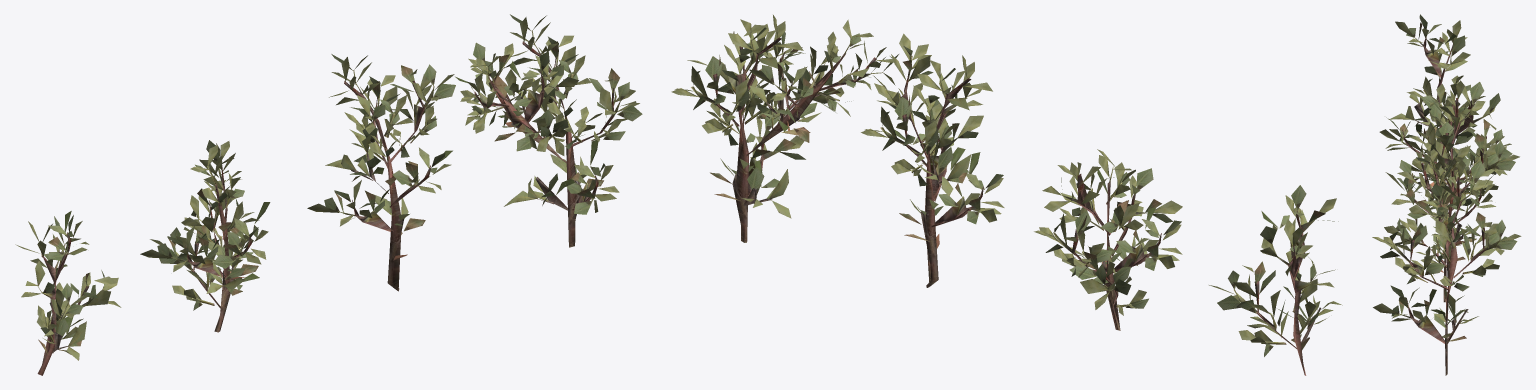
Rendered from shrub_04_lod1.glb.
The picture shows the model from 3 angles, left to right: view 1: azimuth 30°, elevation 25°; view 2: azimuth 150°, elevation 25°; view 3: azimuth 270°, elevation 25°; orthographic projection. The views are drawn at different scales.
Parts seen in each view (by area): view 1: shrub_04; view 2: shrub_04; view 3: shrub_04.
Boxes of the visible parts, x1=… form: shrub_04: x1=15, y1=14, x2=642, y2=375; shrub_04: x1=671, y1=15, x2=1342, y2=375; shrub_04: x1=1372, y1=14, x2=1521, y2=375.
Bounding box in the file's own units: 0.5823 × 0.2193 × 0.1458.
1 material, 1 textured.
